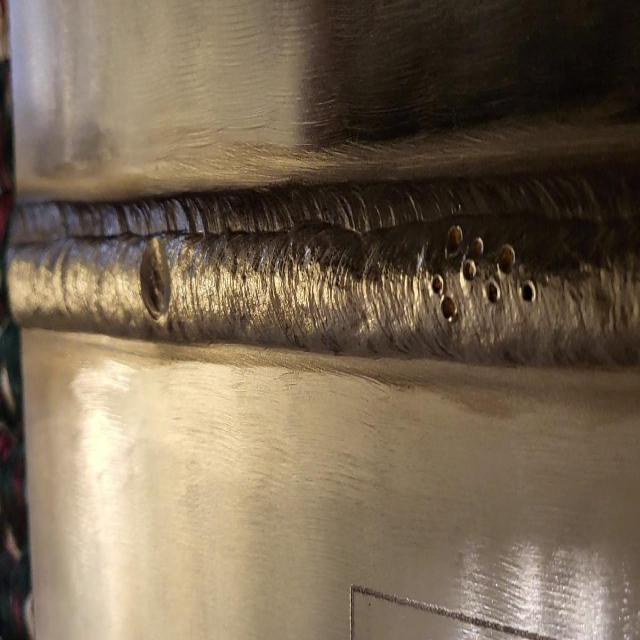Welding Line: (6, 202, 640, 343)
Workpiece: (11, 13, 640, 640)
porosity: (430, 222, 536, 326), (137, 234, 173, 321)
